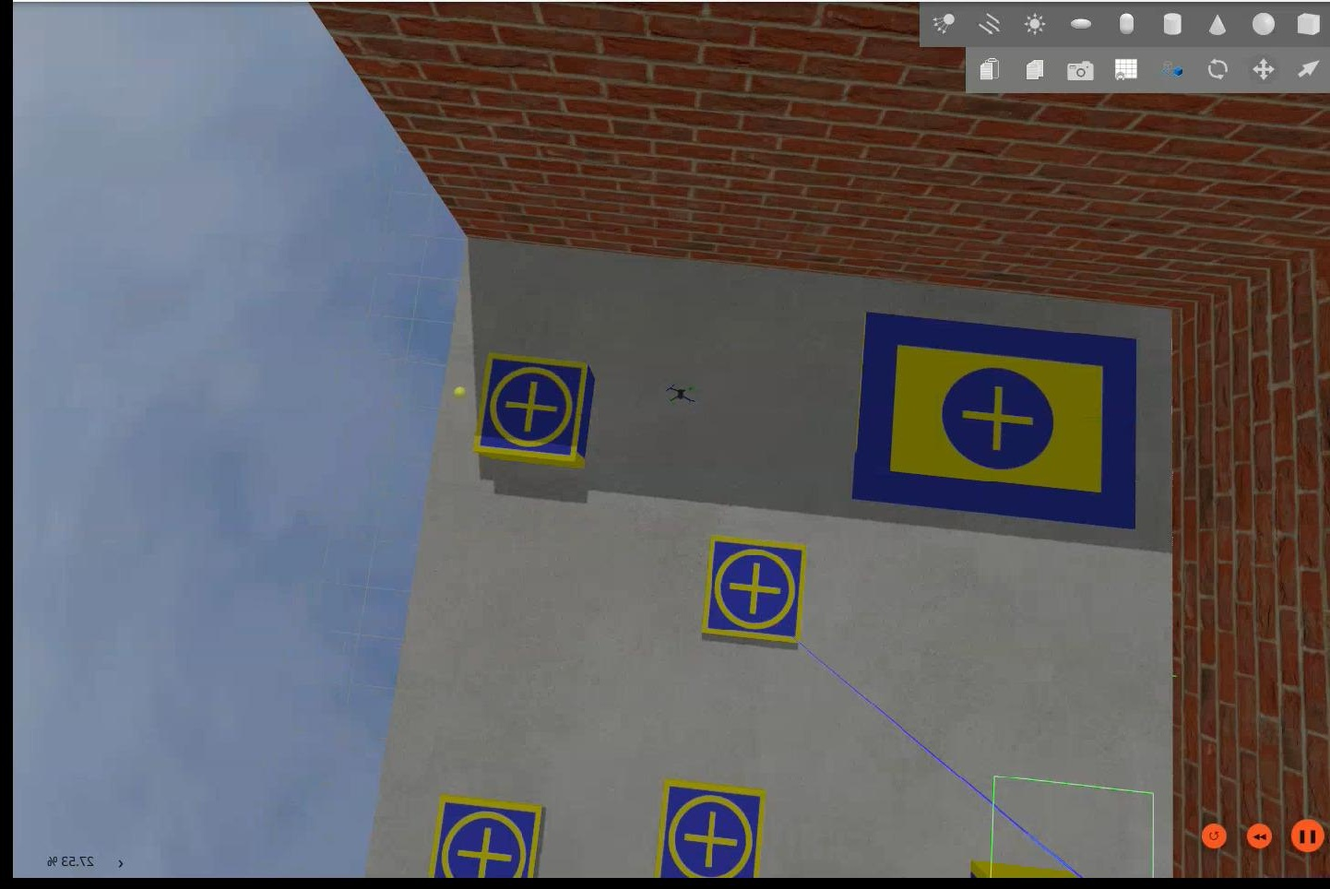large_base: (847, 314, 1135, 534)
small_base: (472, 347, 590, 465), (699, 535, 806, 648), (654, 783, 765, 880), (426, 794, 545, 879)
